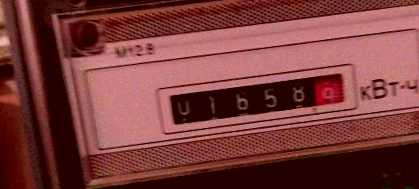0: (172, 93, 192, 116)
1: (202, 90, 220, 116)
5: (260, 83, 279, 109)
6: (231, 86, 252, 112)
8: (288, 79, 308, 103)
9: (317, 83, 336, 106)
screen: (152, 54, 364, 142)
